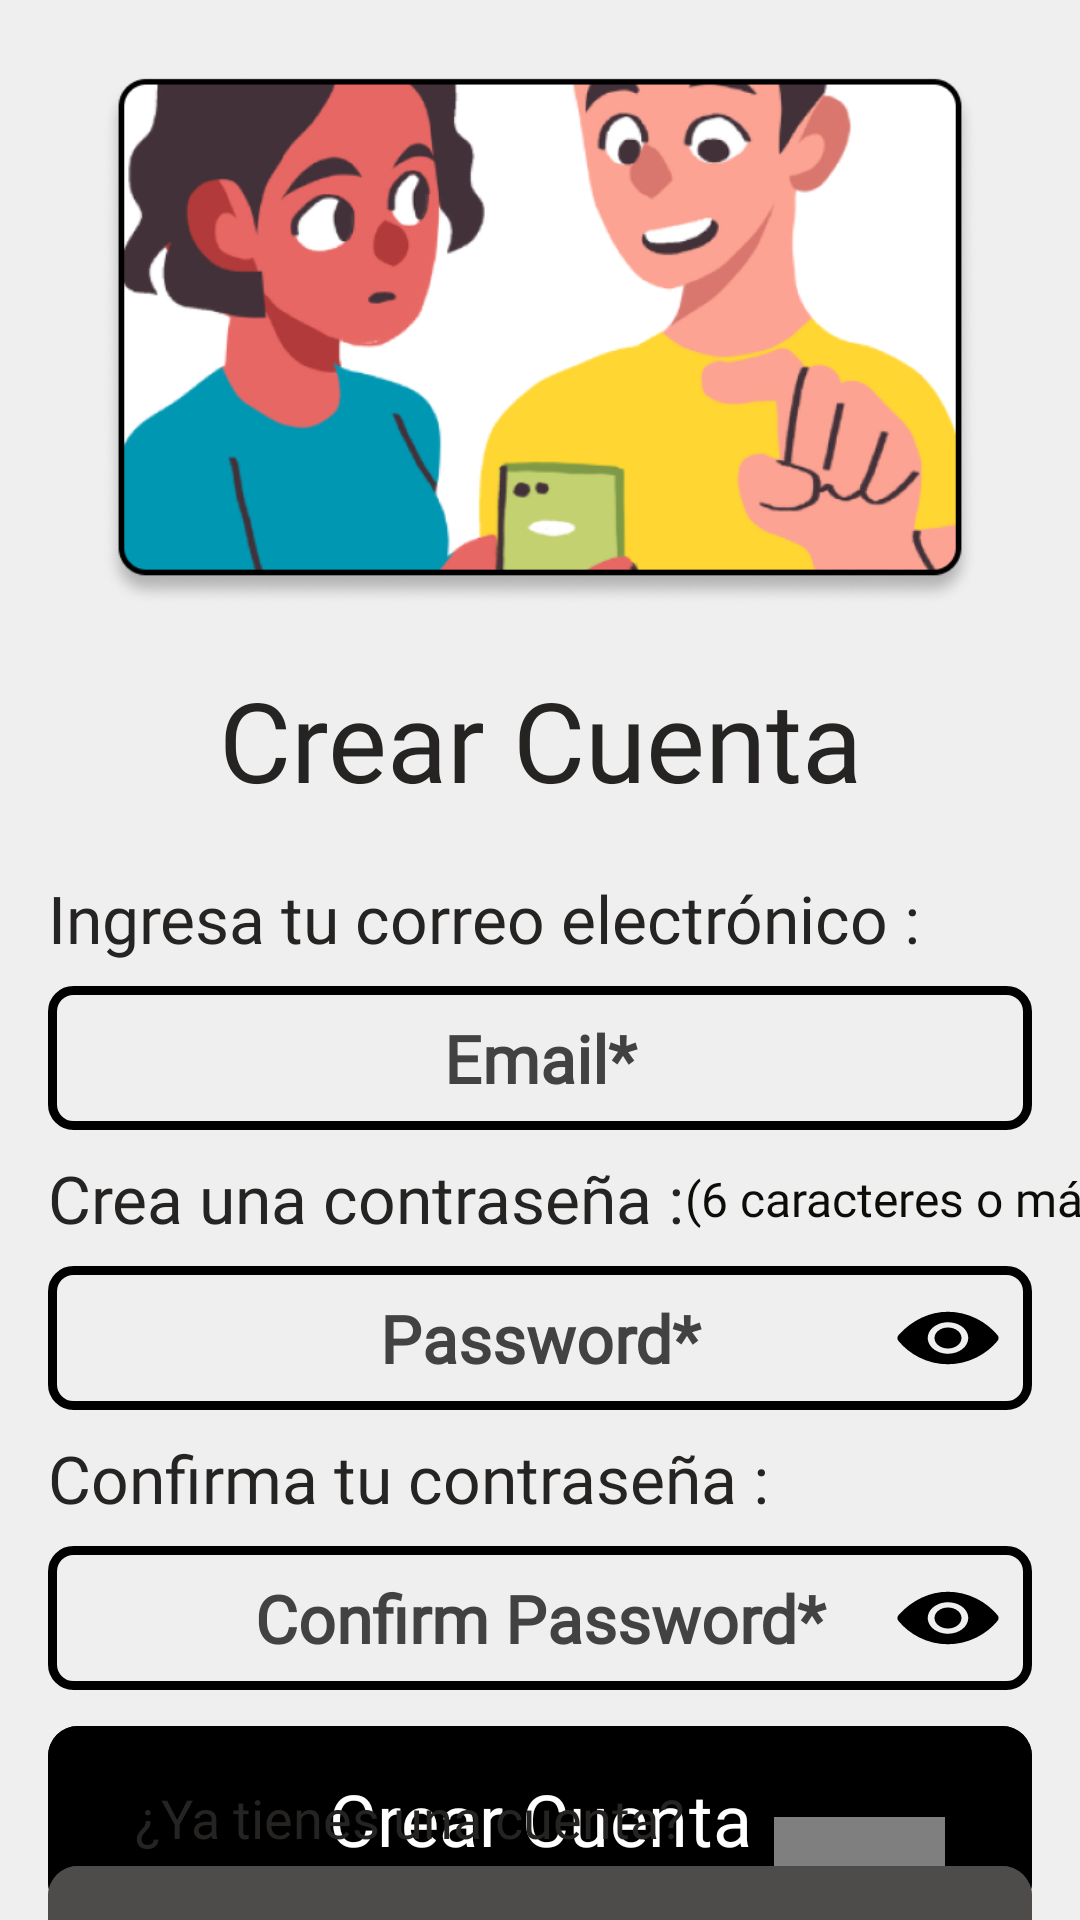

Icons on this 1080 x 1920 Android screen, each with its box as {"left": x1, "top": y1, "right": x2, "bottom": y2}:
eye: {"left": 897, "top": 1311, "right": 999, "bottom": 1365}, {"left": 897, "top": 1591, "right": 999, "bottom": 1645}
